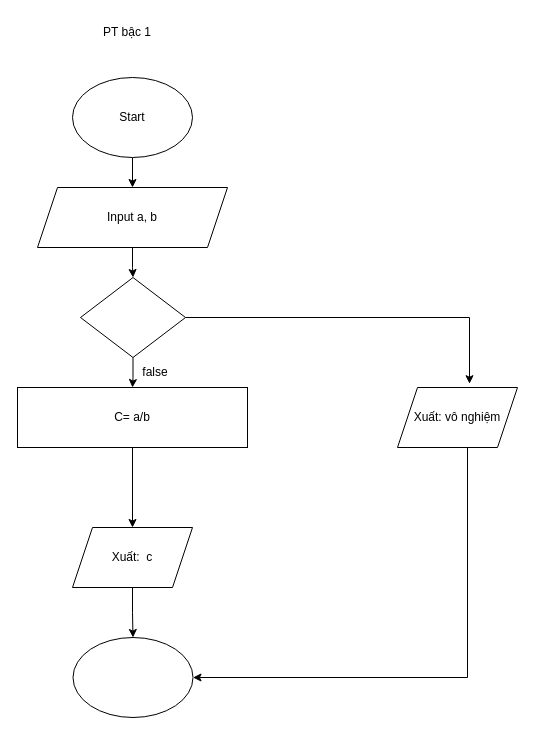
This 535x735 diagram has some shape labels left out. The centre of each missing label's shape, as x and y in pixels:
b = 0: [133,317]
End: [132,677]
